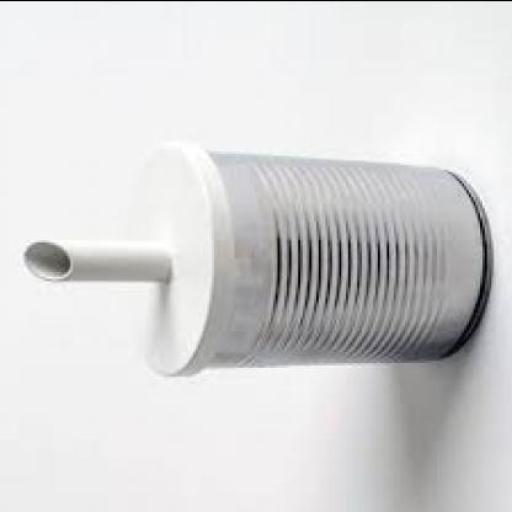metal: (196, 157, 490, 369)
